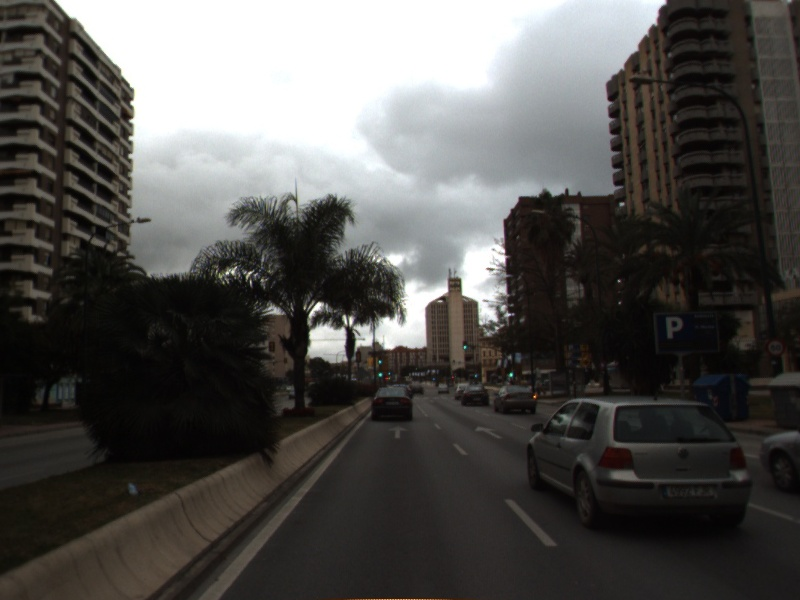STRAIGHT: (472, 423, 505, 441), (386, 423, 411, 440)
